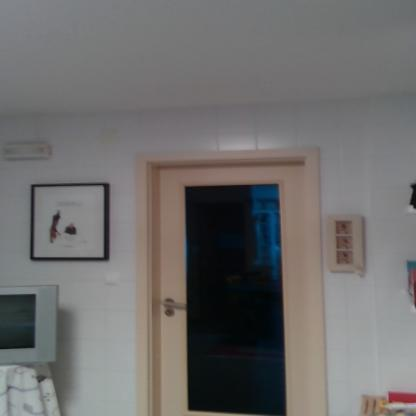door: (156, 166, 309, 416)
lever: (160, 300, 188, 310)
